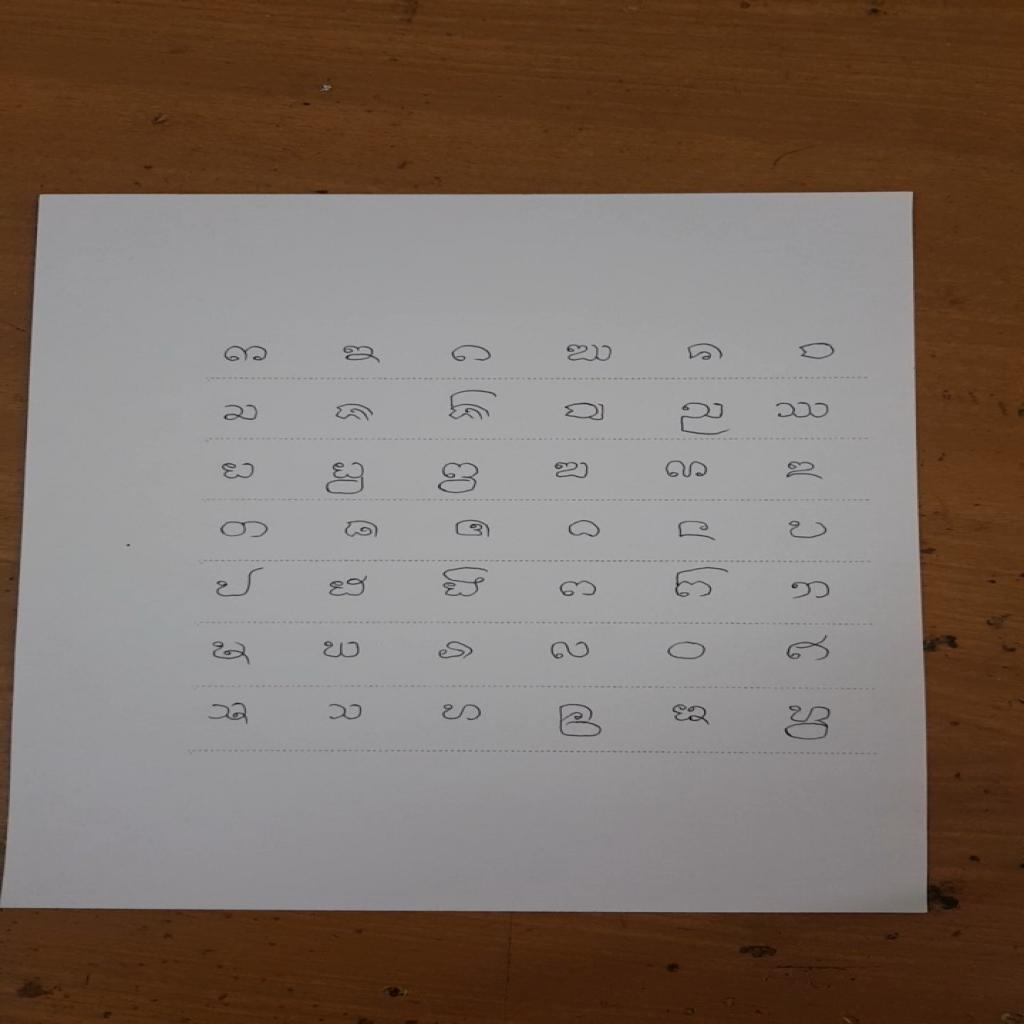LN001: (223, 345, 271, 364)
LN002: (341, 345, 386, 366)
LN003: (451, 345, 496, 364)
LN004: (564, 343, 616, 364)
LN005: (685, 342, 729, 363)
LN006: (798, 342, 840, 362)
LN007: (220, 403, 264, 424)
LN008: (334, 402, 377, 425)
LN009: (446, 389, 504, 424)
LN010: (562, 401, 610, 424)
LN011: (678, 401, 735, 438)
LN012: (773, 402, 835, 422)
LN013: (219, 461, 260, 482)
LN014: (324, 462, 369, 498)
LN015: (435, 462, 484, 497)
LN016: (550, 460, 594, 482)
LN017: (662, 458, 713, 481)
LN018: (783, 460, 829, 482)
LN019: (218, 519, 274, 542)
LN020: (341, 519, 386, 541)
LN021: (452, 519, 498, 541)
LN022: (565, 518, 606, 540)
LN023: (675, 520, 719, 544)
LN024: (785, 519, 835, 542)
LN025: (213, 566, 268, 600)
LN026: (327, 573, 373, 600)
LN027: (440, 565, 493, 601)
LN028: (558, 580, 600, 600)
LN029: (672, 567, 732, 601)
LN030: (788, 580, 835, 603)
LN031: (210, 640, 255, 669)
LN032: (321, 640, 366, 661)
LN033: (436, 640, 478, 663)
LN034: (548, 640, 593, 663)
LN035: (662, 639, 713, 665)
LN036: (784, 634, 835, 664)
LN037: (205, 701, 254, 727)
LN038: (325, 702, 369, 724)
LN039: (440, 703, 487, 724)
LN040: (556, 703, 607, 740)
LN041: (670, 703, 716, 728)
LN042: (781, 705, 836, 744)
